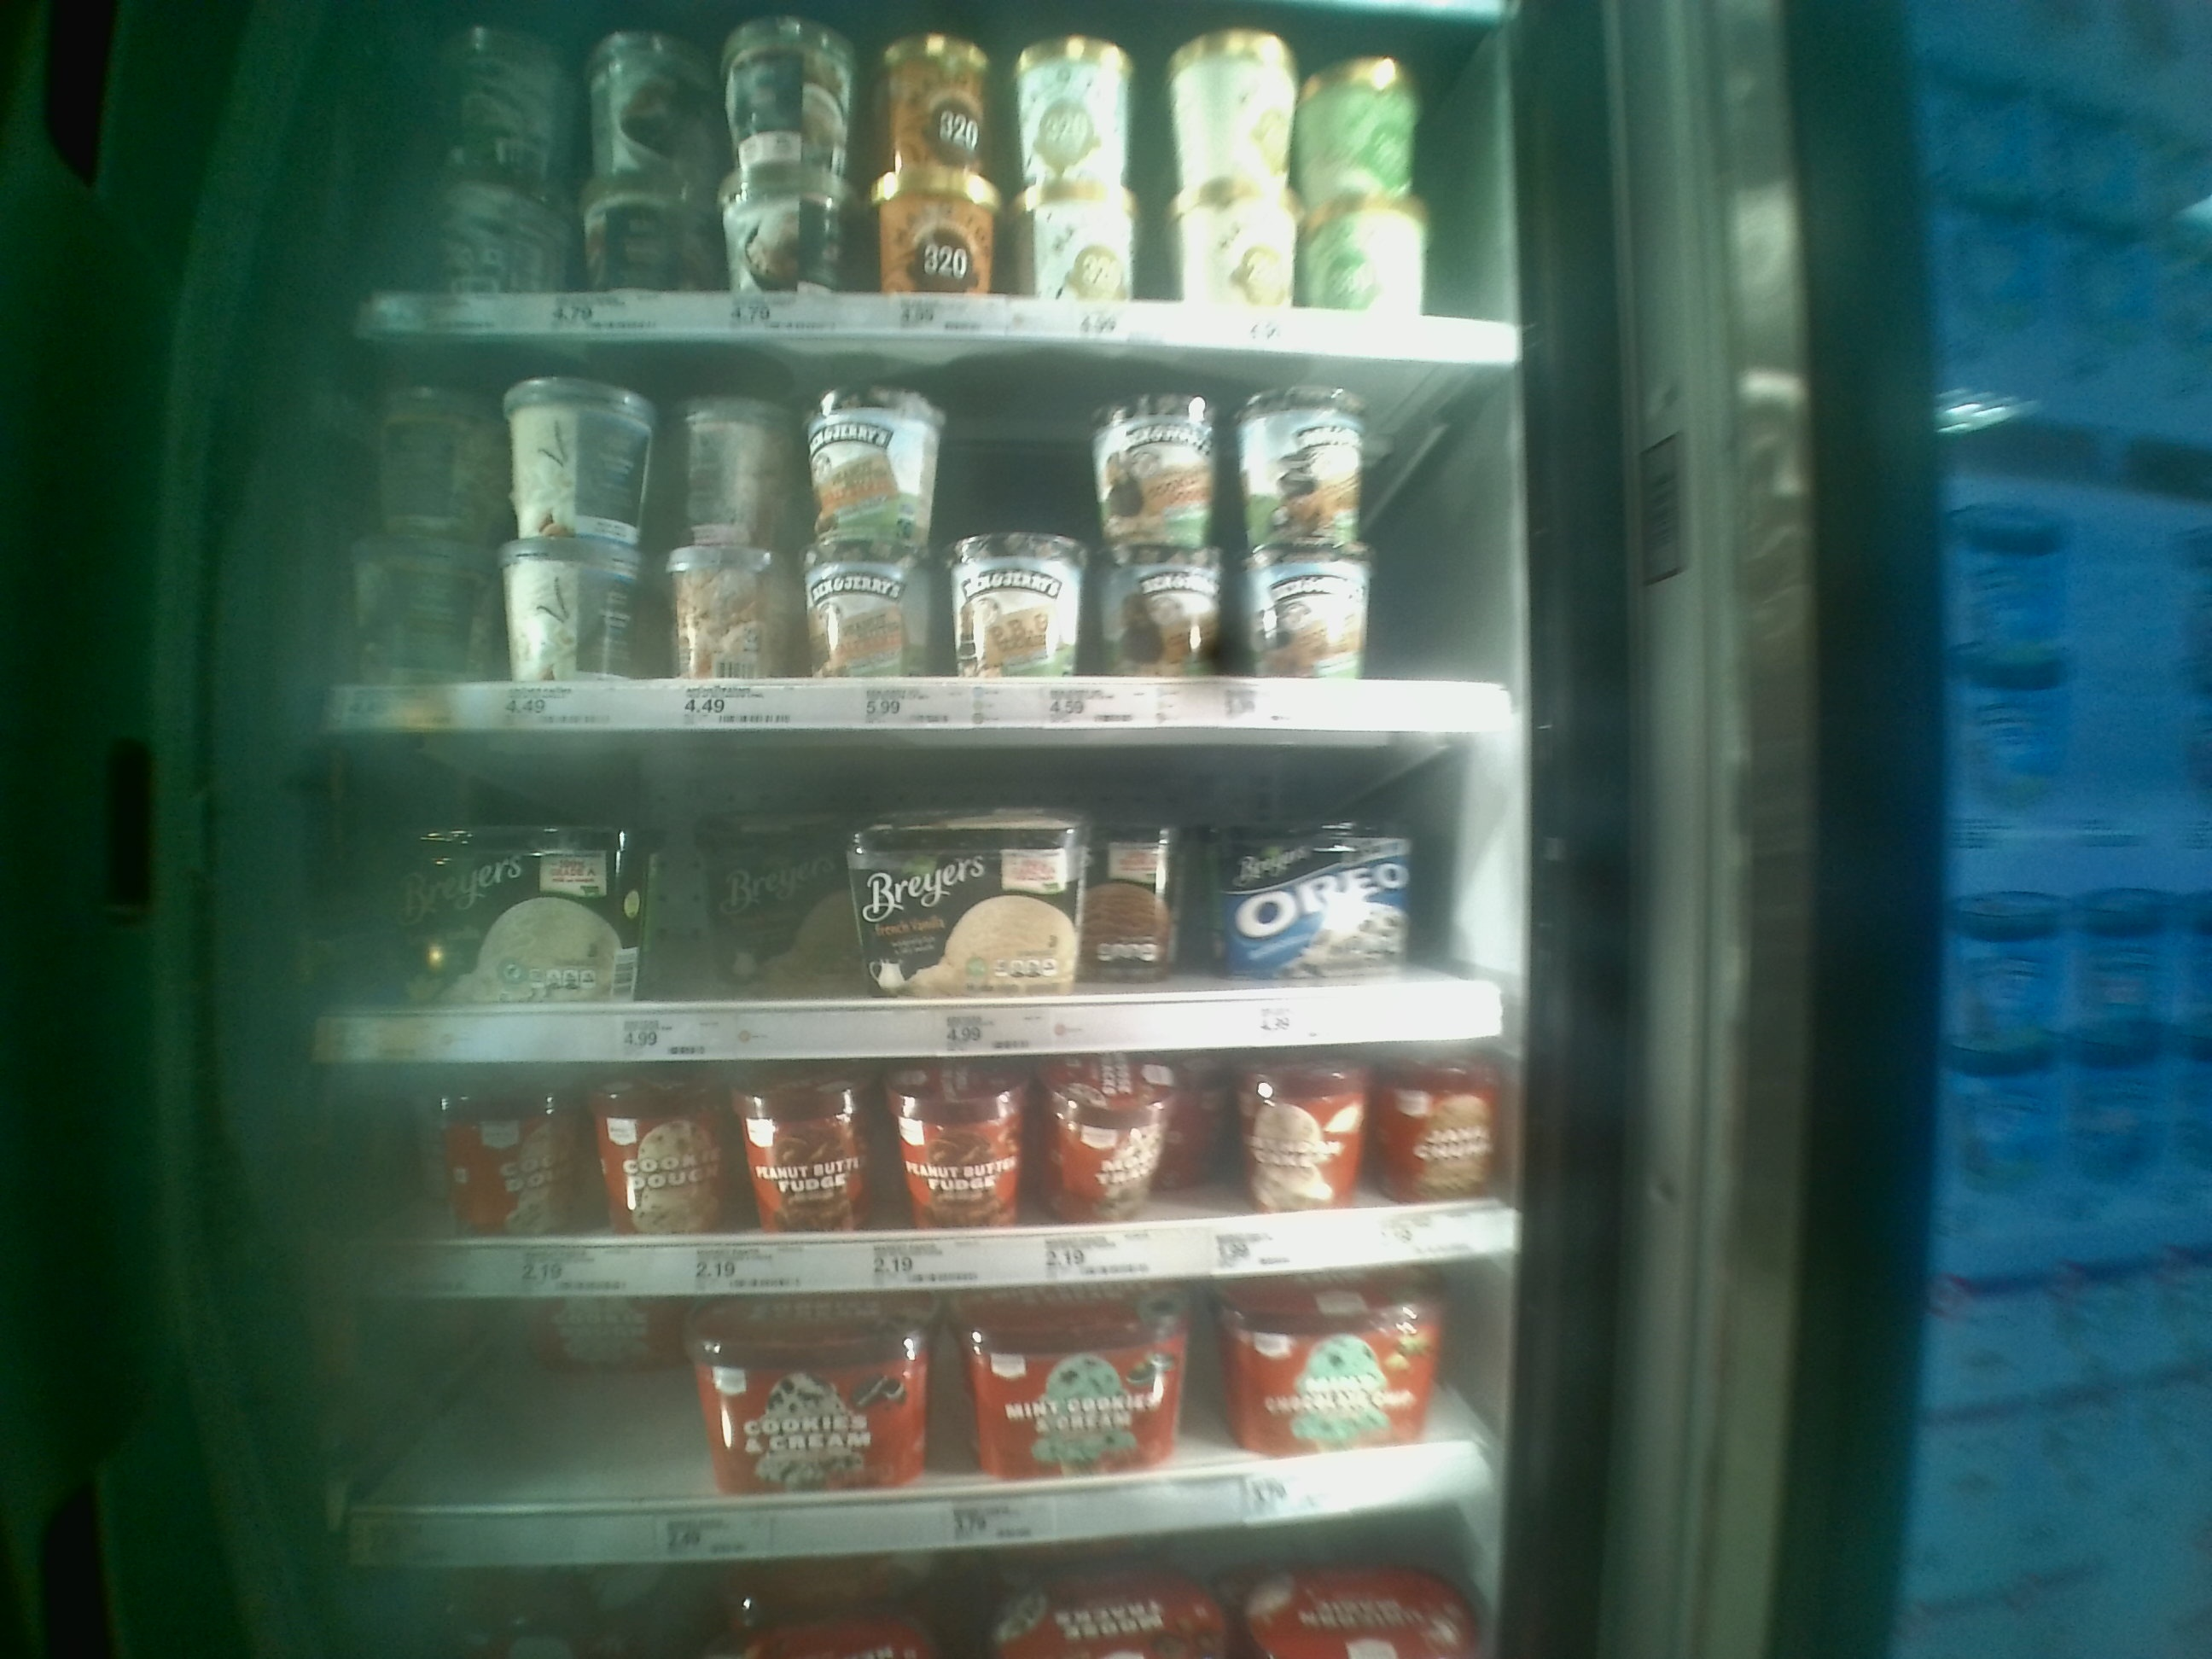shelf: (322, 350, 1512, 758), (317, 770, 1498, 1070), (329, 1312, 1507, 1565), (319, 1072, 1512, 1291)
